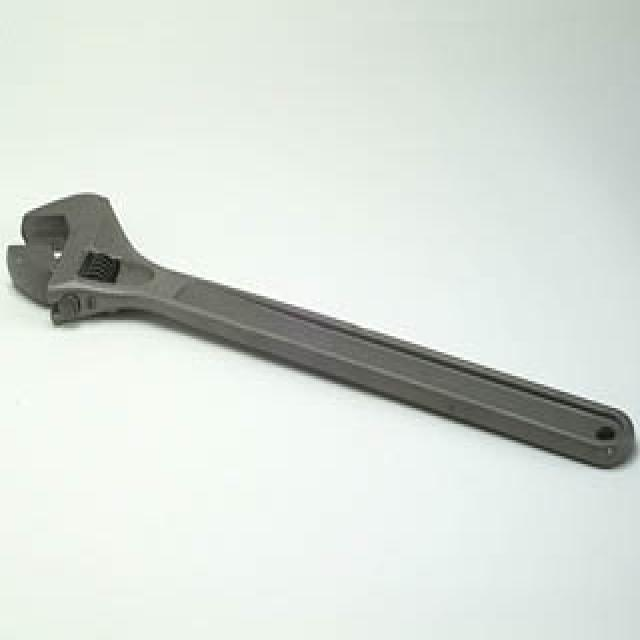wrench: (9, 165, 640, 519)
